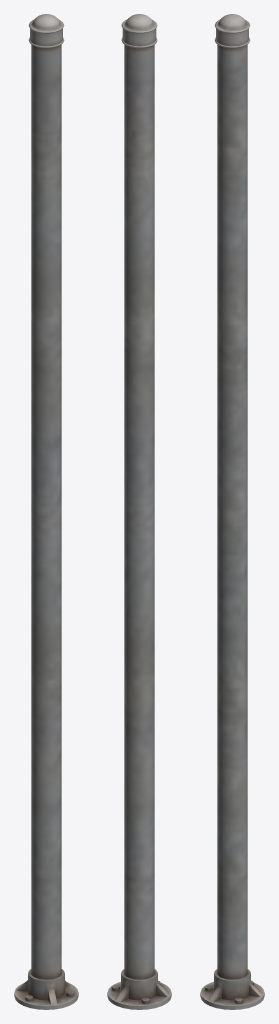
The model's file is chainlink-post.glb.
3 renders of one model, left to right at view 1: azimuth 90°, elevation 25°; view 2: azimuth 150°, elevation 25°; view 3: azimuth 270°, elevation 25°, orthographic.
Parts seen in each view (by area): view 1: modular_chainlink_fence_post; view 2: modular_chainlink_fence_post; view 3: modular_chainlink_fence_post.
Boxes of the visible parts, box(x1,y1,x2,y2) form: modular_chainlink_fence_post: box(14, 14, 78, 1009); modular_chainlink_fence_post: box(107, 14, 171, 1009); modular_chainlink_fence_post: box(200, 14, 264, 1009).
Size of the model in its own units: 0.1494 by 2.52 by 0.1494.
Materials: 1 (1 with a texture image).
